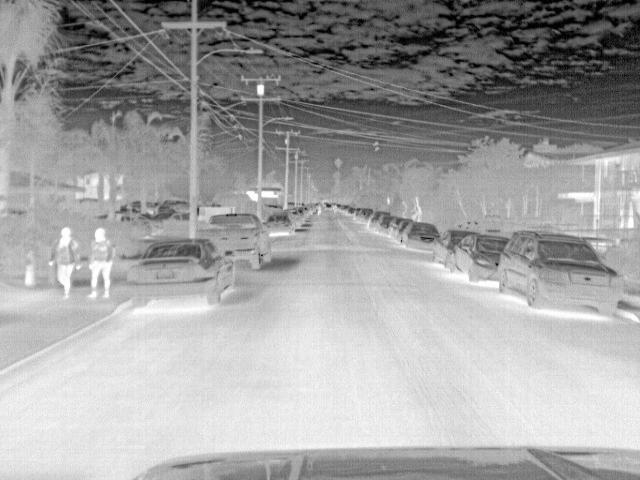car: (497, 228, 625, 318), (123, 236, 240, 312), (198, 211, 276, 270), (450, 233, 511, 282), (431, 229, 475, 262), (405, 222, 445, 250), (116, 211, 155, 236), (153, 212, 191, 231), (262, 215, 295, 236), (386, 216, 412, 236), (278, 209, 304, 228), (365, 210, 389, 228), (356, 207, 376, 223)
person: (47, 226, 83, 300), (87, 228, 115, 301)
